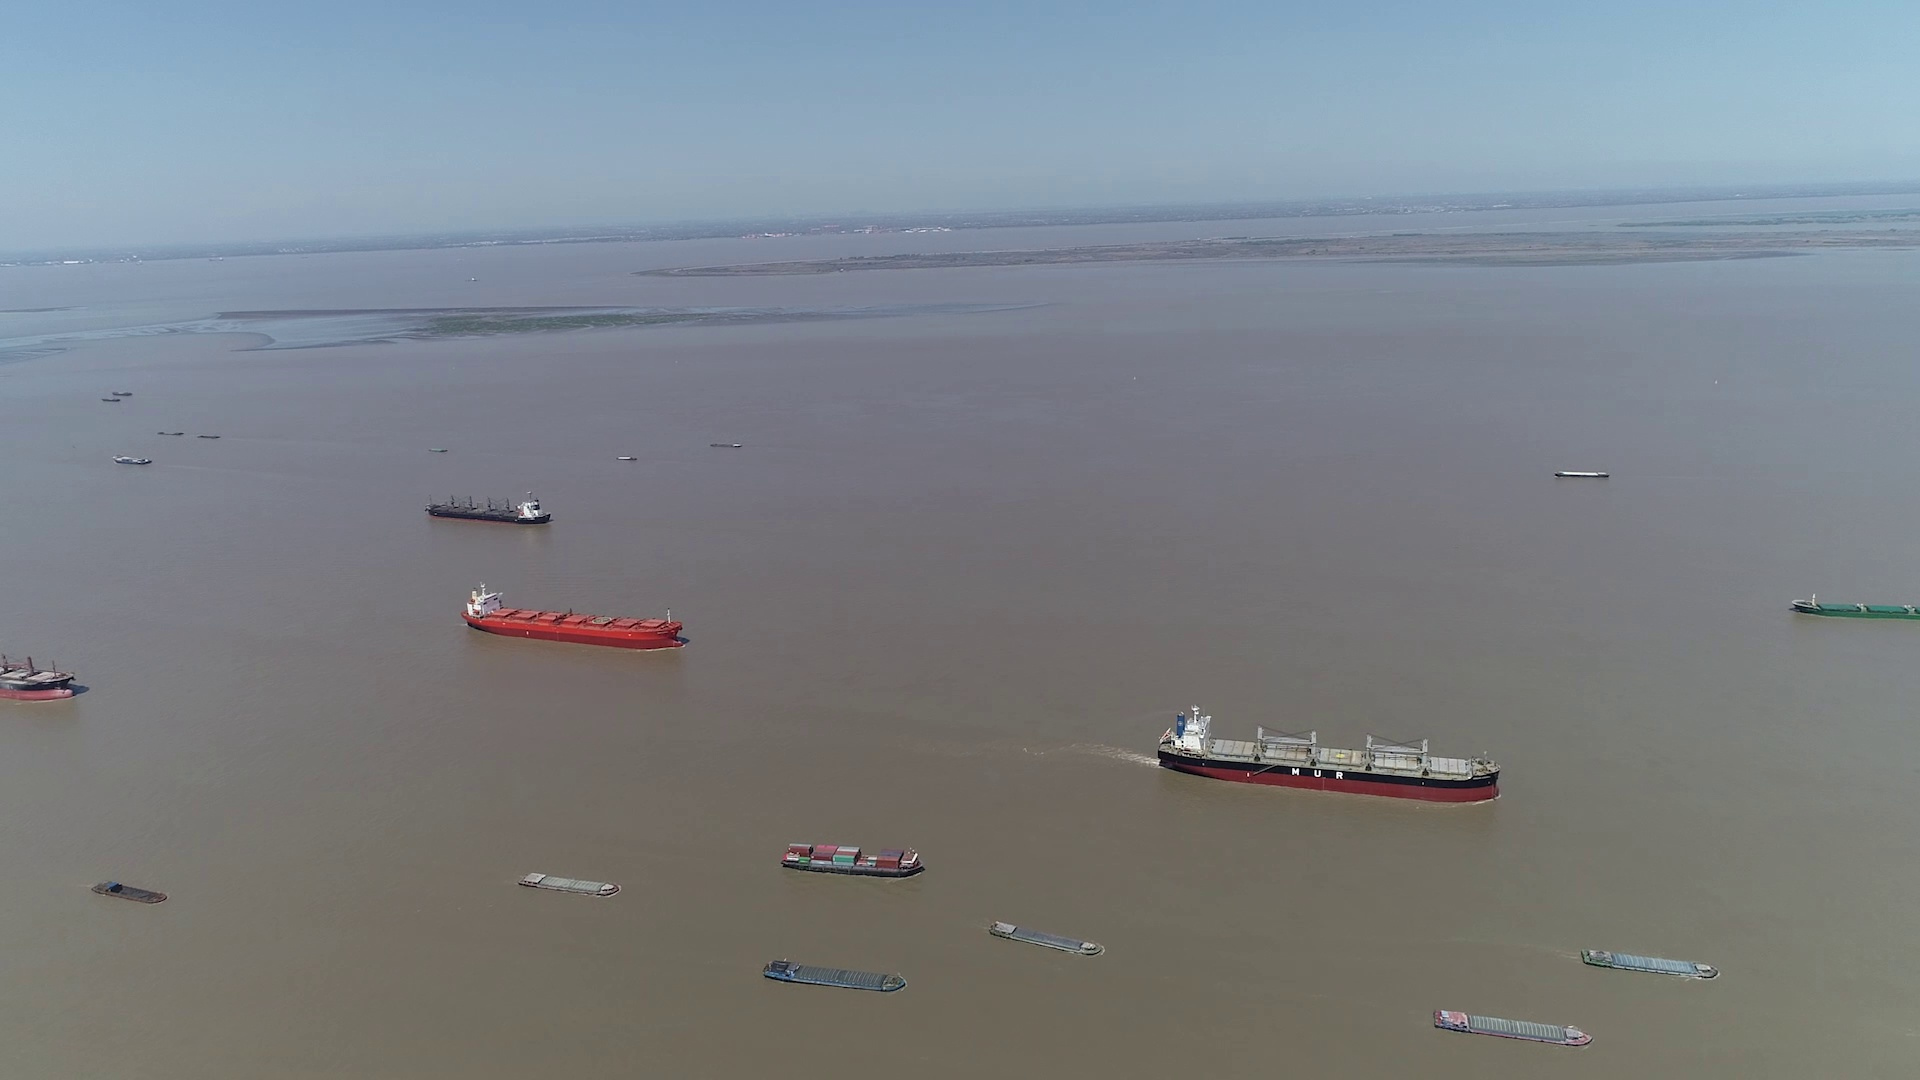ship: (1158, 704, 1501, 800), (465, 584, 678, 651), (1436, 1009, 1589, 1047), (762, 960, 910, 996), (781, 841, 924, 877), (3, 638, 80, 703), (988, 919, 1104, 956), (1582, 949, 1717, 981), (425, 491, 550, 524), (1789, 595, 1917, 621), (520, 870, 620, 897), (91, 881, 167, 905), (1552, 469, 1610, 479), (113, 454, 150, 465), (709, 440, 742, 447)
